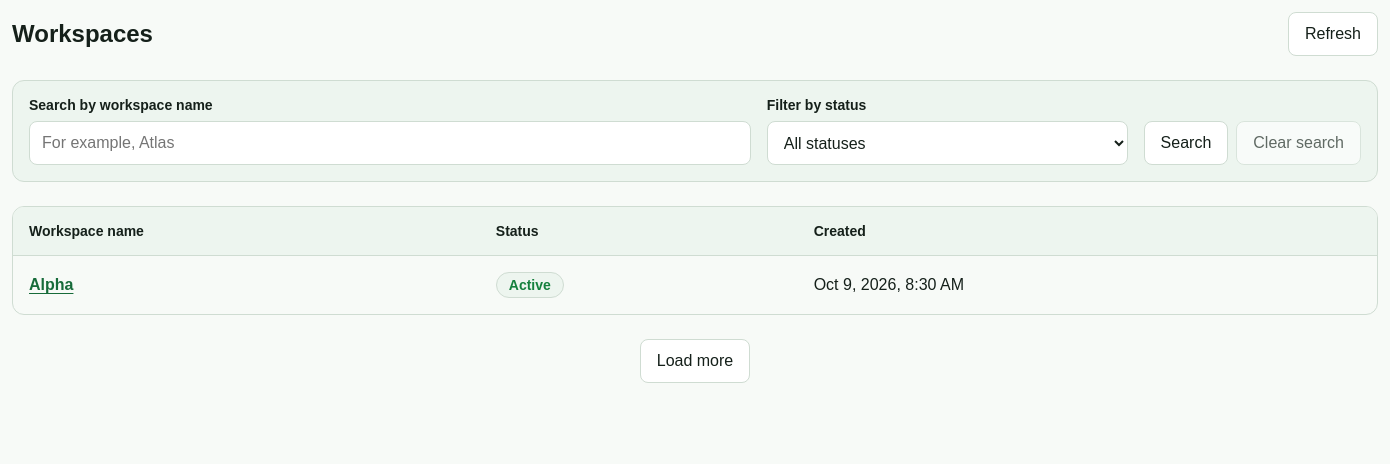
Scenario: Platform workspace directory › keeps page one on a continuation failure and retries the same cursor
Click the button "Load more": (695, 361) [640,339,750,383]
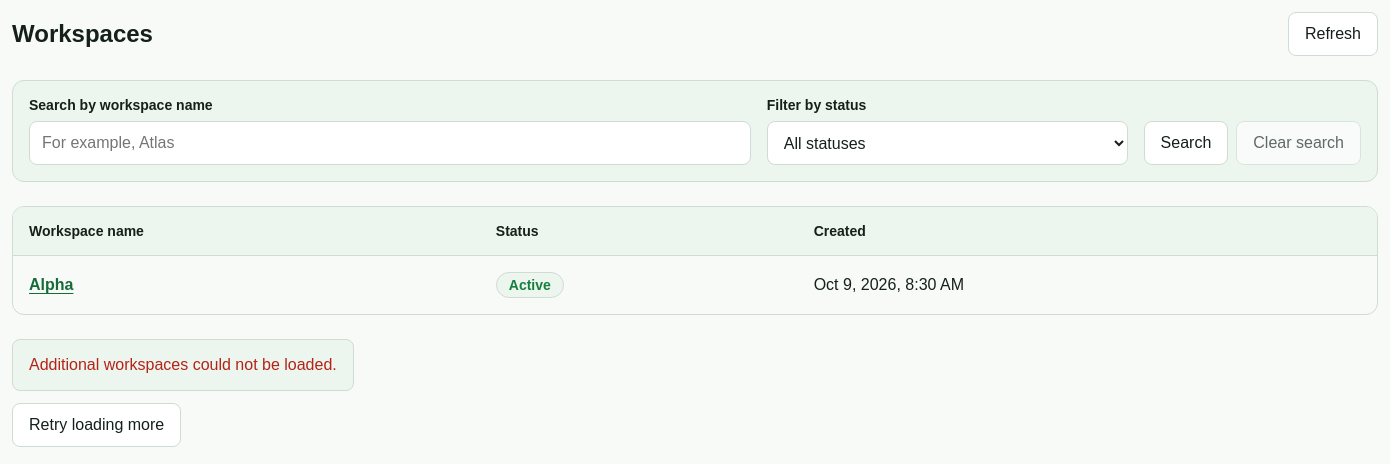
Check: the link "Alpha" is shown, box [29,276,74,293]
Check: the message shows "Additional workspaces", box [29,356,337,373]
Click the button "Retry loading more": (97, 425) [12,403,181,447]
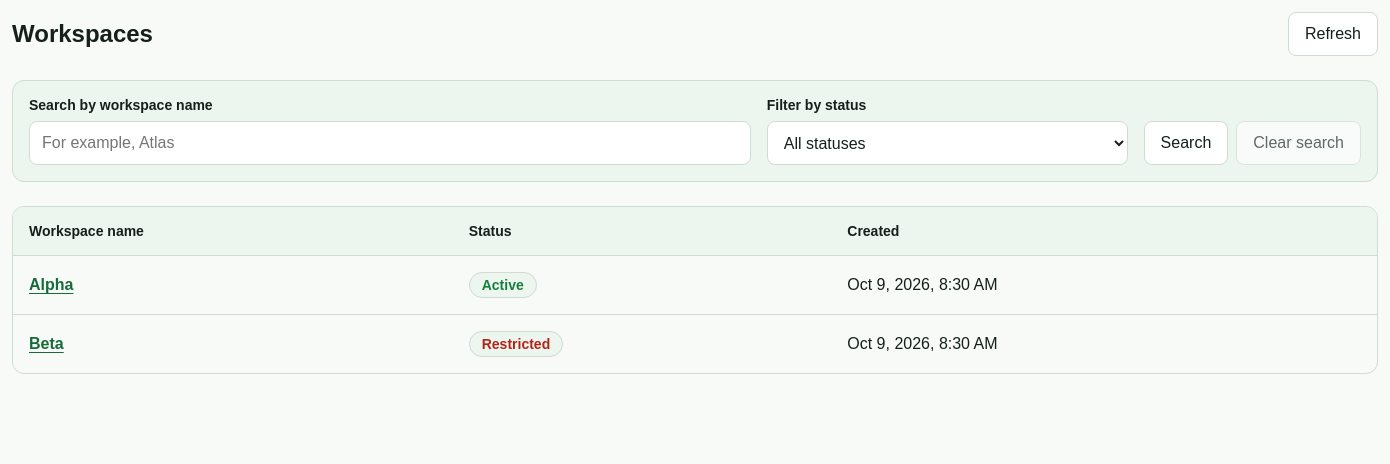
Check: the link "Beta" is shown, box [29,335,64,352]
